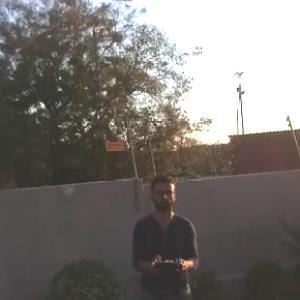follow: (121, 168, 201, 299)
